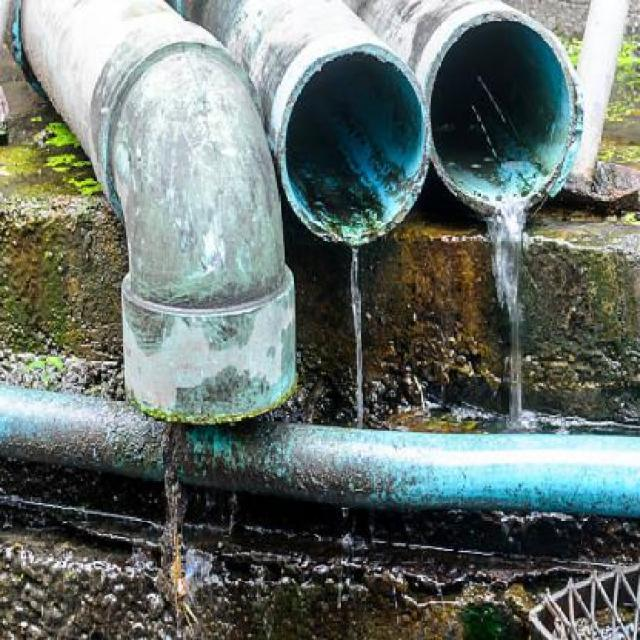pipe: (425, 11, 585, 217), (278, 42, 431, 245)
